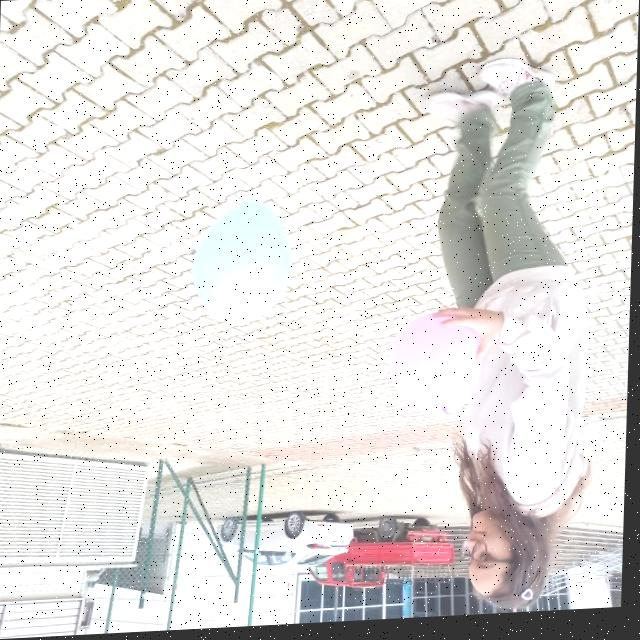balloon: (192, 198, 293, 324), (387, 315, 486, 422)
